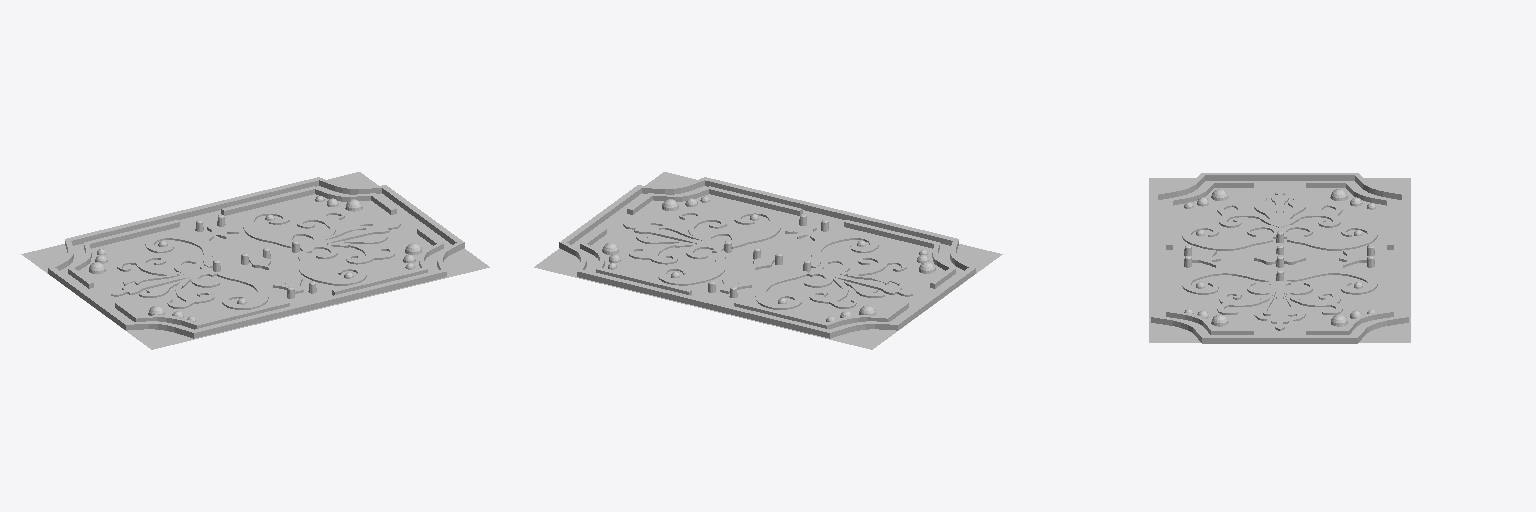
3 renders of one model, left to right at view 1: azimuth 30°, elevation 25°; view 2: azimuth 150°, elevation 25°; view 3: azimuth 270°, elevation 25°, orthographic.
Visible parts, largest first — view 1: cube54, cube3_copy31, cube3_sep30, cube3_sep28, cube3_sep19, cube3_sep8, cube3_sep29, cube3_sep7, cube3_sep26, cube3_sep23; view 2: cube54, cube3_copy31, cube3_sep30, cube3_sep29, cube3_sep19, cube3_sep8, cube3_sep28, cube3_sep4, cube3_sep23, cube3_sep26; view 3: cube54, cube3_copy31, cube3_sep30, cube3_sep28, cube3_sep29, cube3_sep19, cube3_sep8, cube3_sep26, cube3_sep23, cube3_sep7, cube3_sep4.
Part boxes in pixels (x1,y1,x2,y2): cube54: (21, 172, 489, 349); cube3_copy31: (48, 177, 464, 338); cube3_sep30: (68, 186, 443, 329); cube3_sep28: (215, 271, 268, 309); cube3_sep19: (298, 251, 366, 285); cube3_sep8: (243, 210, 291, 247); cube3_sep29: (145, 234, 212, 267); cube3_sep7: (327, 243, 394, 264); cube3_sep26: (117, 255, 185, 275); cube3_sep23: (167, 277, 214, 308); cube54: (534, 172, 1002, 349); cube3_copy31: (559, 177, 975, 338); cube3_sep30: (580, 186, 955, 329); cube3_sep29: (755, 271, 808, 309); cube3_sep19: (732, 210, 780, 248); cube3_sep8: (658, 250, 725, 285); cube3_sep28: (811, 234, 878, 267); cube3_sep4: (629, 243, 696, 264); cube3_sep23: (838, 255, 906, 275); cube3_sep26: (809, 277, 856, 308); cube54: (1149, 178, 1410, 342); cube3_copy31: (1151, 173, 1408, 343); cube3_sep30: (1166, 181, 1393, 334); cube3_sep28: (1182, 225, 1272, 250); cube3_sep29: (1287, 225, 1377, 250); cube3_sep19: (1182, 269, 1272, 294); cube3_sep8: (1287, 269, 1377, 294); cube3_sep26: (1285, 204, 1342, 227); cube3_sep23: (1217, 204, 1274, 227); cube3_sep7: (1217, 291, 1274, 314); cube3_sep4: (1285, 291, 1342, 314).
Size of the model in its own units: 35.41 by 0.9562 by 23.66.